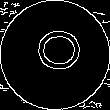O_W: (28, 32, 82, 78)
